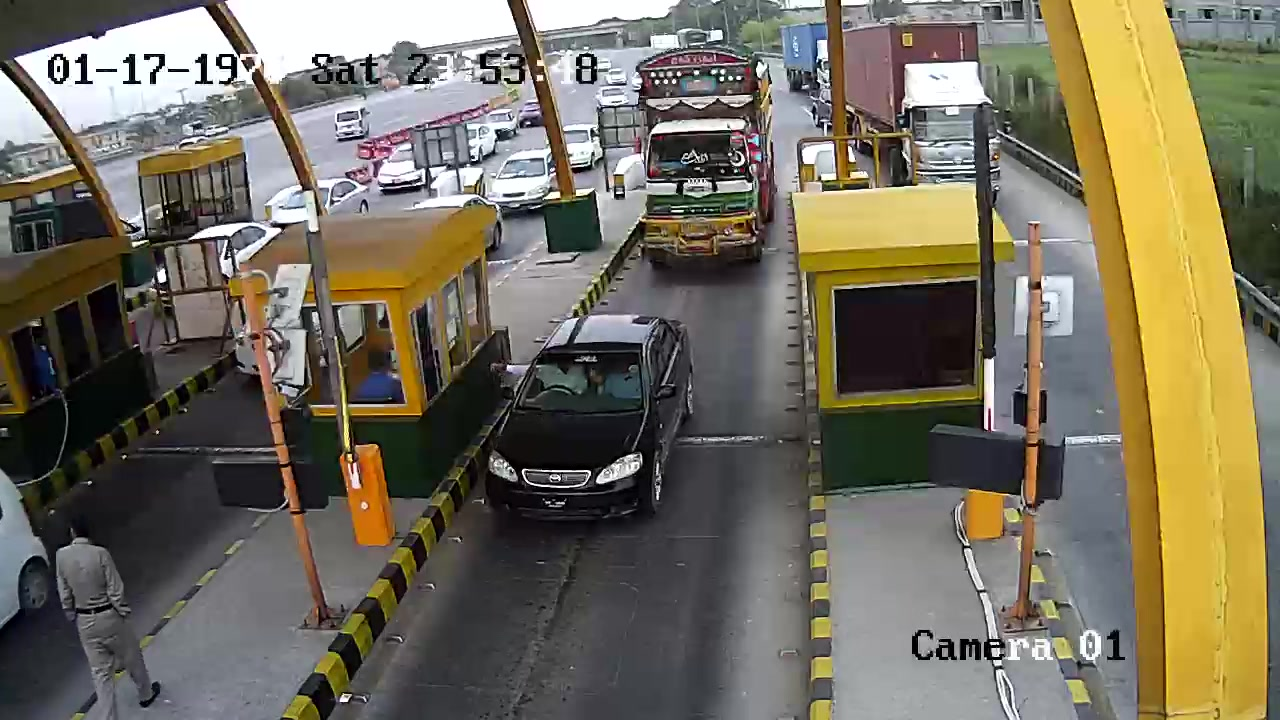F1: (488, 303, 706, 536)
